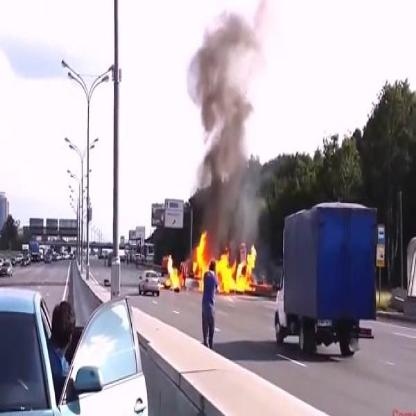fire: (192, 228, 260, 296), (165, 252, 182, 292)
